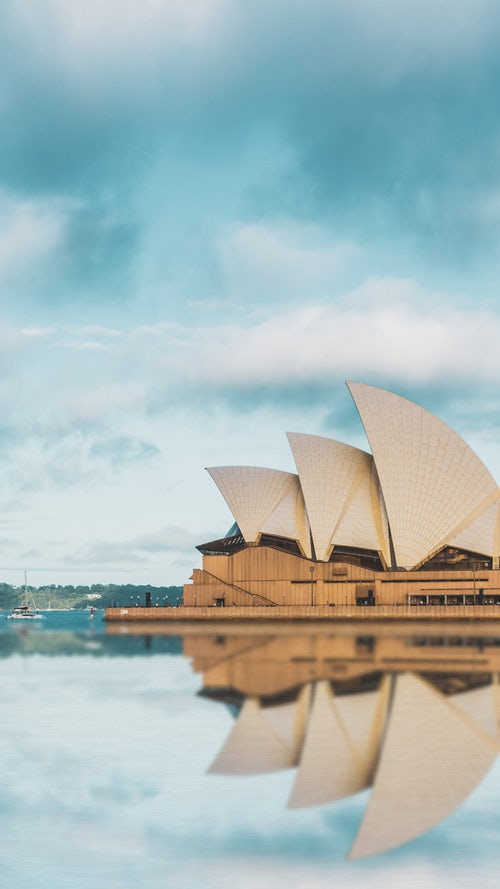opera house: (88, 344, 500, 611)
